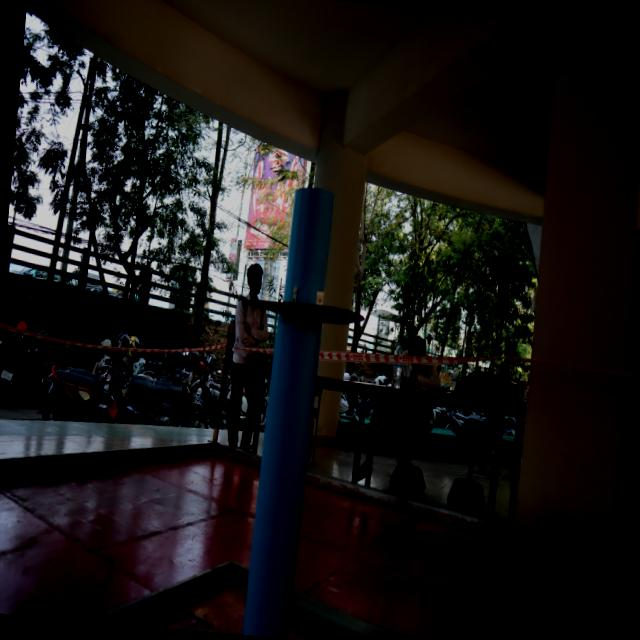pole: (231, 176, 371, 440)
